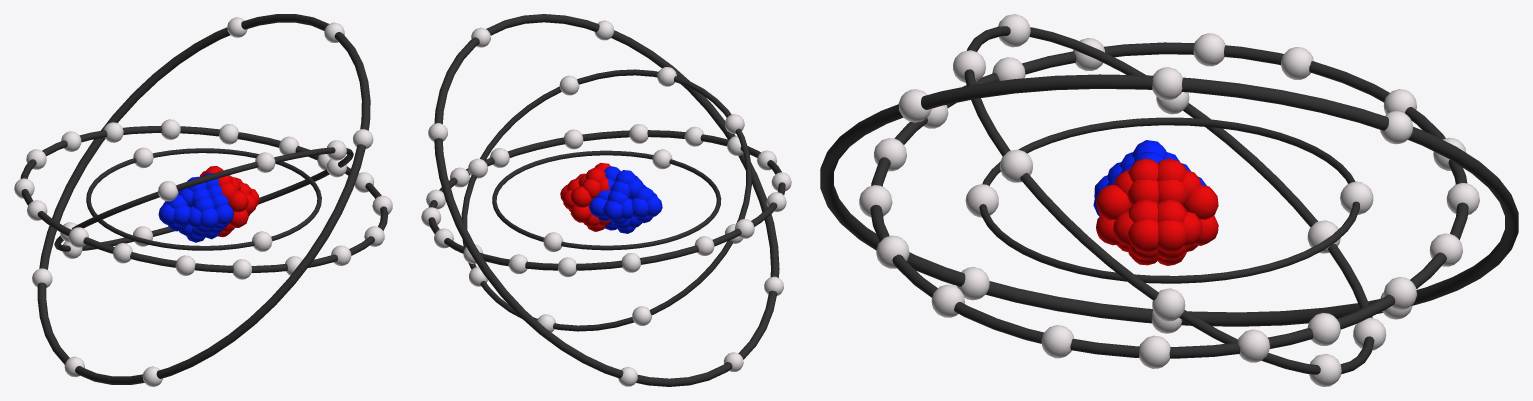
Rendered from 34 Selenio.fbx.
3 views of the same model, side by side, from view 1: azimuth 30°, elevation 25°; view 2: azimuth 150°, elevation 25°; view 3: azimuth 270°, elevation 25° (orthographic). The views are drawn at different scales.
Parts seen in each view (by area): view 1: Orbita.004, Nucleo.001, Orbita.003, Orbita.002, Orbita.001, Electron.009, Electron.012, Electron, Electron.024, Electron.015, Electron.001, Electron.028 (+2 smaller); view 2: Orbita.004, Nucleo.001, Orbita.002, Orbita.003, Orbita.001, Electron.010, Electron.017, Electron, Electron.006, Electron.001; view 3: Orbita.004, Orbita.003, Nucleo.001, Orbita.002, Orbita.001, Electron.029, Electron.008, Electron.030, Electron.016, Electron.022, Electron.031, Electron.026 (+21 smaller).
Boxes of the visible parts, x1,y1,x2,y2 form: Orbita.004: [37, 14, 370, 384]; Nucleo.001: [158, 166, 259, 242]; Orbita.003: [20, 126, 388, 272]; Orbita.002: [54, 147, 353, 251]; Orbita.001: [86, 148, 321, 250]; Electron.009: [158, 181, 178, 201]; Electron.012: [175, 255, 195, 275]; Electron: [252, 231, 272, 251]; Electron.024: [161, 119, 180, 139]; Electron.015: [219, 124, 238, 144]; Electron.001: [133, 147, 153, 168]; Electron.028: [232, 259, 251, 279]; Orbita.004: [434, 14, 779, 386]; Nucleo.001: [560, 163, 662, 233]; Orbita.002: [461, 69, 751, 331]; Orbita.003: [428, 130, 785, 270]; Orbita.001: [492, 150, 721, 250]; Electron.010: [559, 75, 579, 95]; Electron.017: [564, 129, 583, 149]; Electron: [652, 149, 672, 169]; Electron.006: [632, 306, 651, 325]; Electron.001: [543, 232, 563, 252]; Orbita.004: [820, 74, 1518, 326]; Orbita.003: [870, 42, 1468, 358]; Nucleo.001: [1093, 140, 1218, 265]; Orbita.002: [964, 26, 1374, 374]; Orbita.001: [979, 117, 1359, 283]; Electron.029: [1193, 33, 1225, 66]; Electron.008: [1152, 288, 1185, 321]; Electron.030: [1139, 335, 1170, 368]; Electron.016: [1237, 329, 1270, 362]; Electron.022: [1041, 325, 1073, 358]; Electron.031: [1152, 67, 1182, 100]; Electron.026: [1281, 47, 1313, 79].
Bounding box in the file's own units: 14.15 × 12.43 × 10.48.
